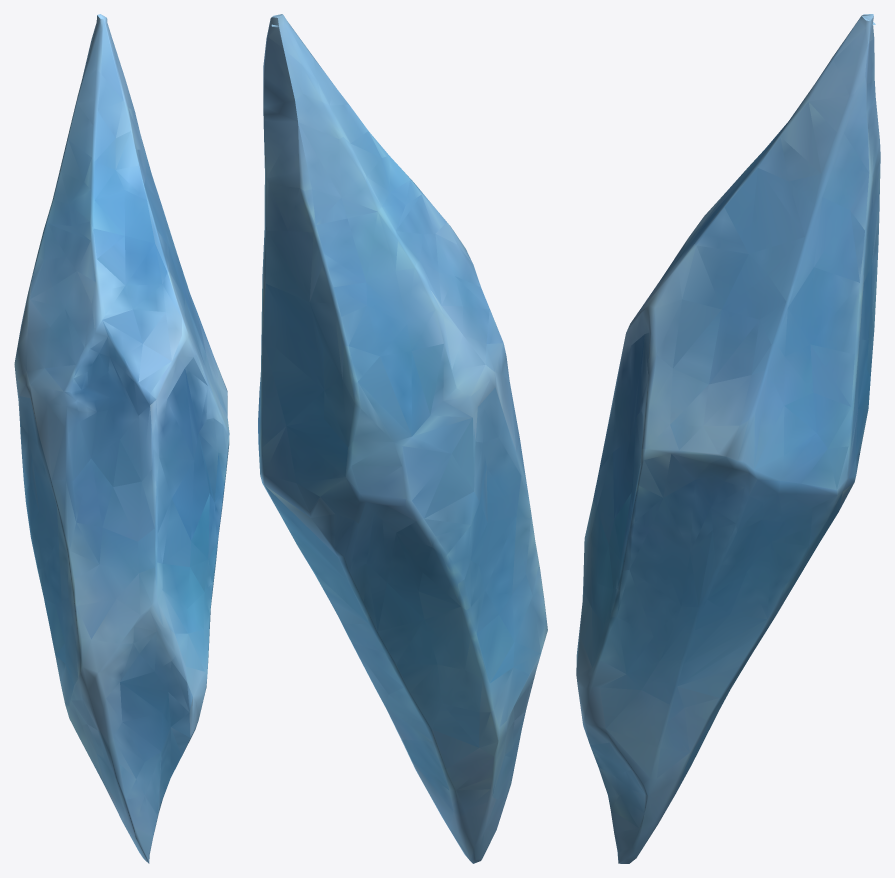
The model's file is esquirla_hielo_1200.glb.
3 views of the same model, side by side, from view 1: azimuth 30°, elevation 25°; view 2: azimuth 150°, elevation 25°; view 3: azimuth 270°, elevation 25° (orthographic). The views are drawn at different scales.
Parts seen in each view (by area): view 1: esquirla_hielo_malla; view 2: esquirla_hielo_malla; view 3: esquirla_hielo_malla.
Part boxes in pixels (left/top/right/bottom): esquirla_hielo_malla: left=14, top=14, right=229, bottom=863; esquirla_hielo_malla: left=258, top=14, right=547, bottom=863; esquirla_hielo_malla: left=576, top=14, right=880, bottom=863.
Size of the model in its own units: 0.0833 by 0.3116 by 0.0974.
1 material, 1 textured.
